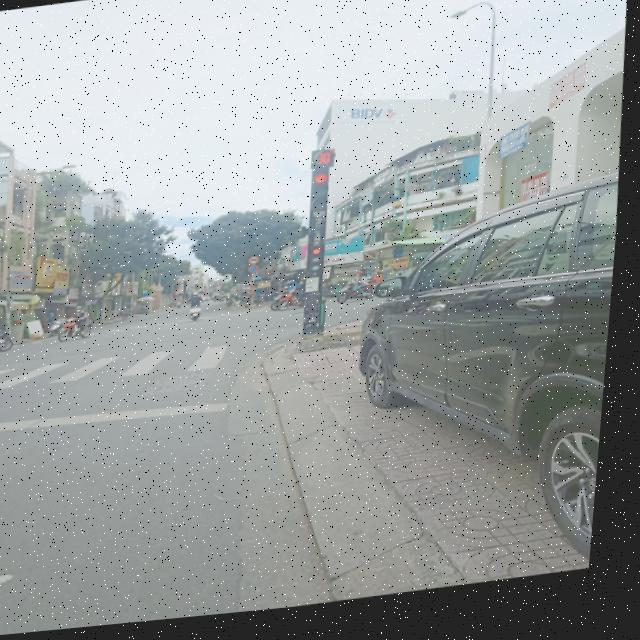Red: (308, 170, 337, 225), (312, 248, 333, 282)
